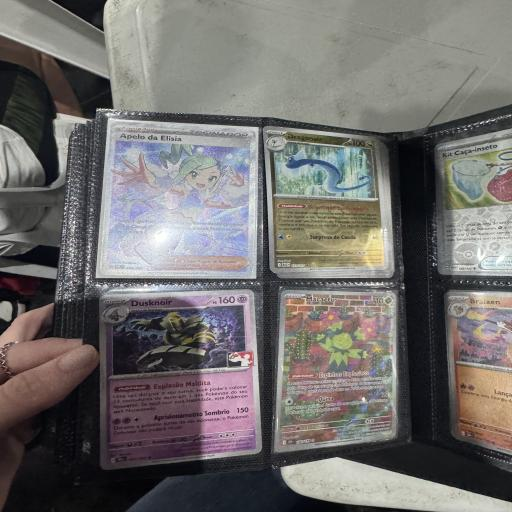card: (94, 289, 263, 470), (100, 119, 263, 285), (274, 288, 402, 457), (262, 119, 390, 277)
